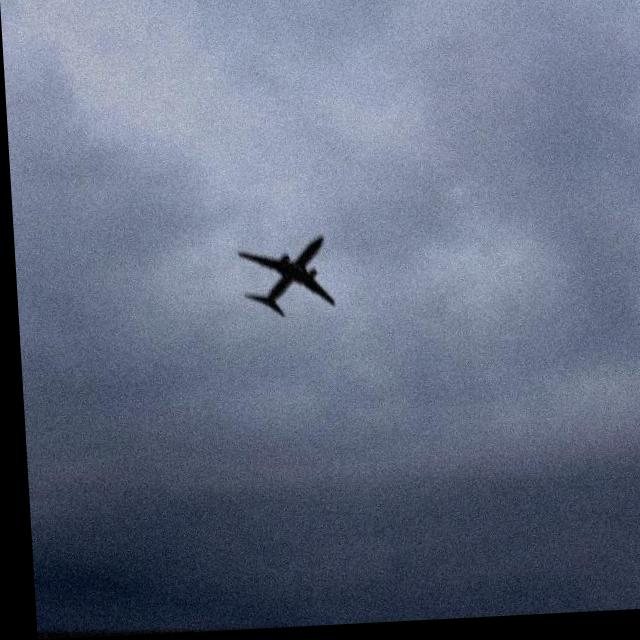airplane: (230, 236, 336, 321)
